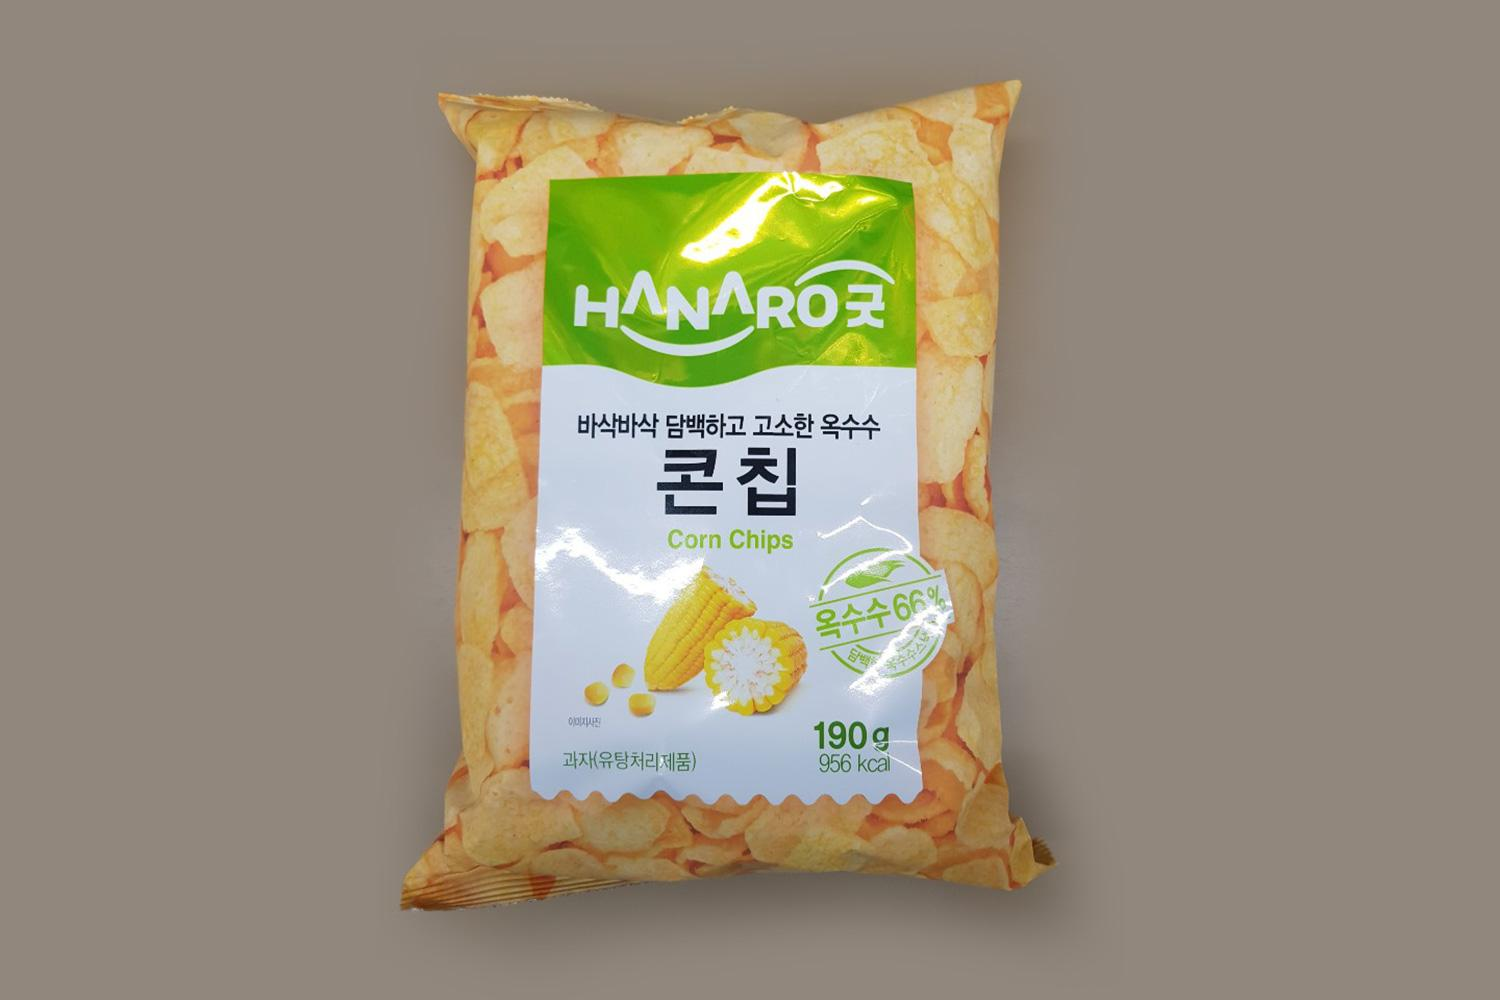snack: (405, 75, 1060, 910)
